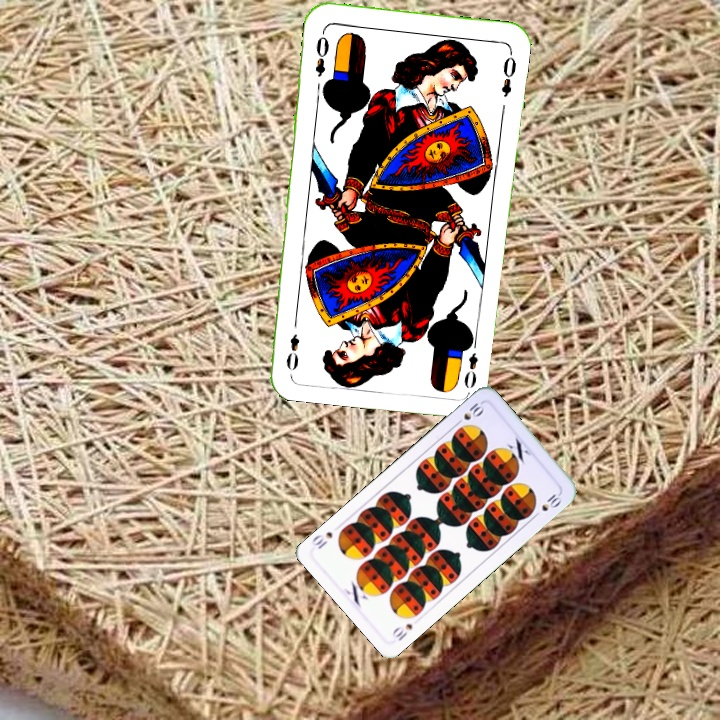EO: (460, 334, 481, 392), (311, 26, 332, 79)
S10: (451, 398, 488, 429), (388, 619, 415, 644)
